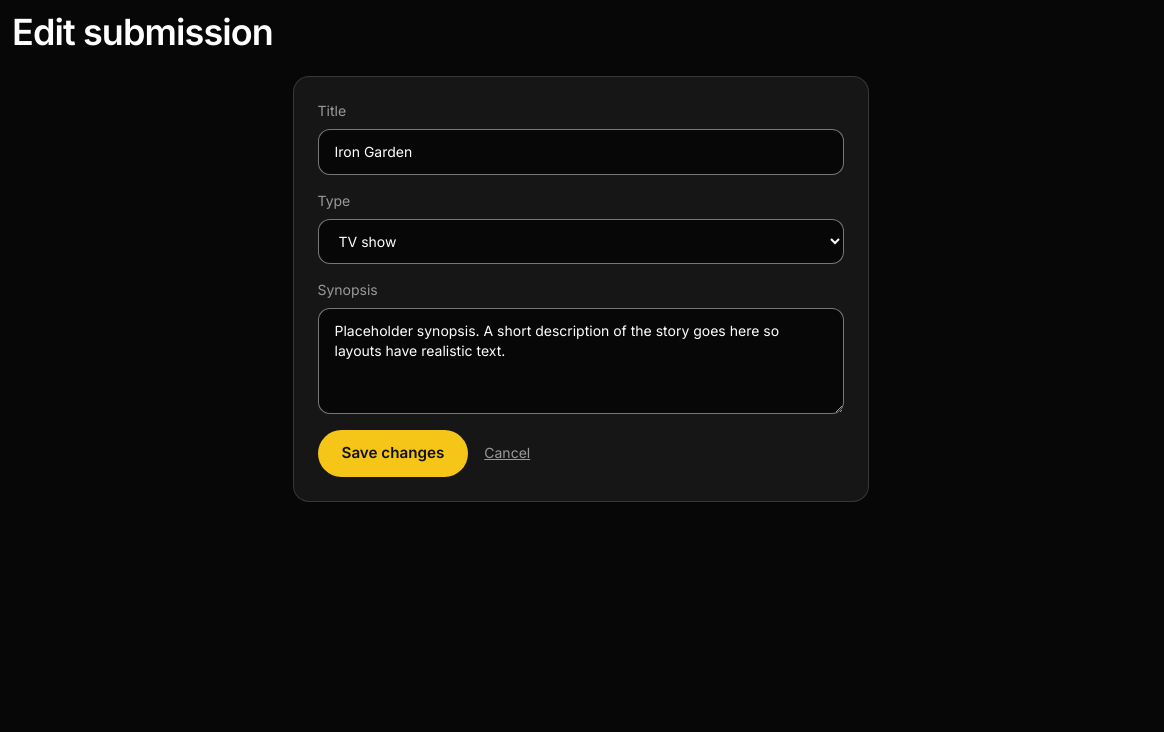
Test: SubmissionForm (edit) › editing a PENDING title saves straight away with no dialog
Type " 2" into the field showing "Iron Garden".
click(580, 152); type(" 2")  # box x1=318 y1=129 x2=844 y2=175
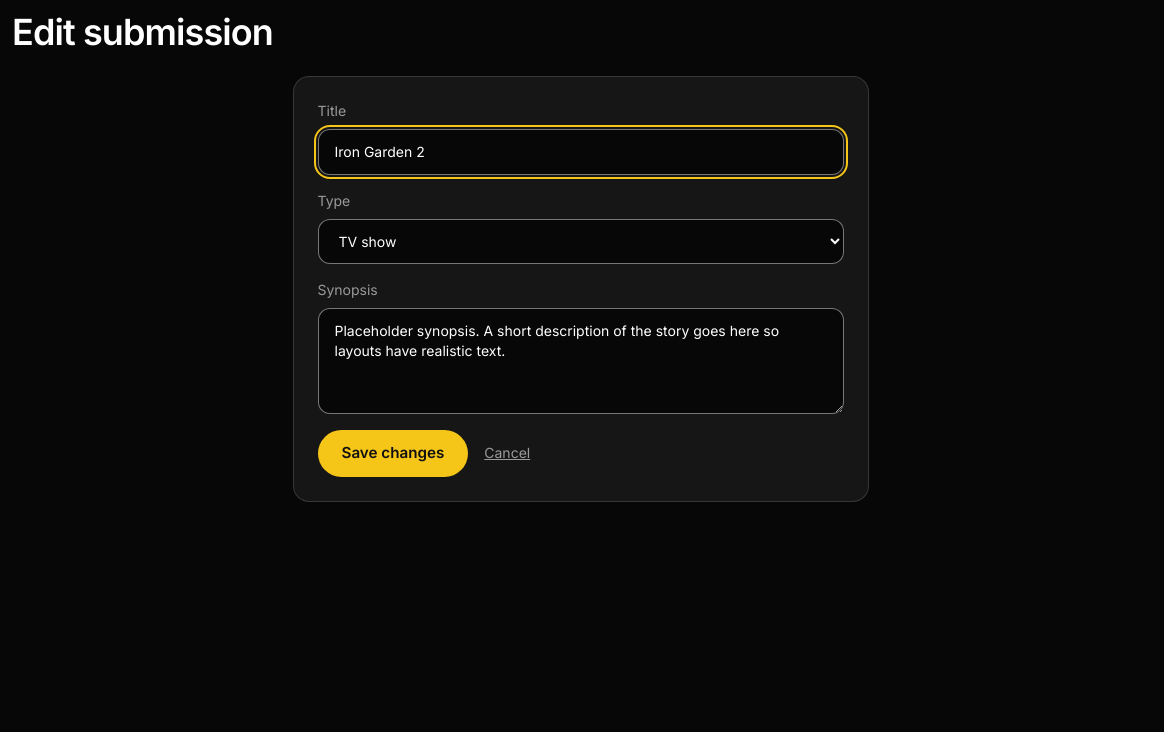
Click the button "Save changes".
click(393, 453)  # box x1=318 y1=430 x2=468 y2=477
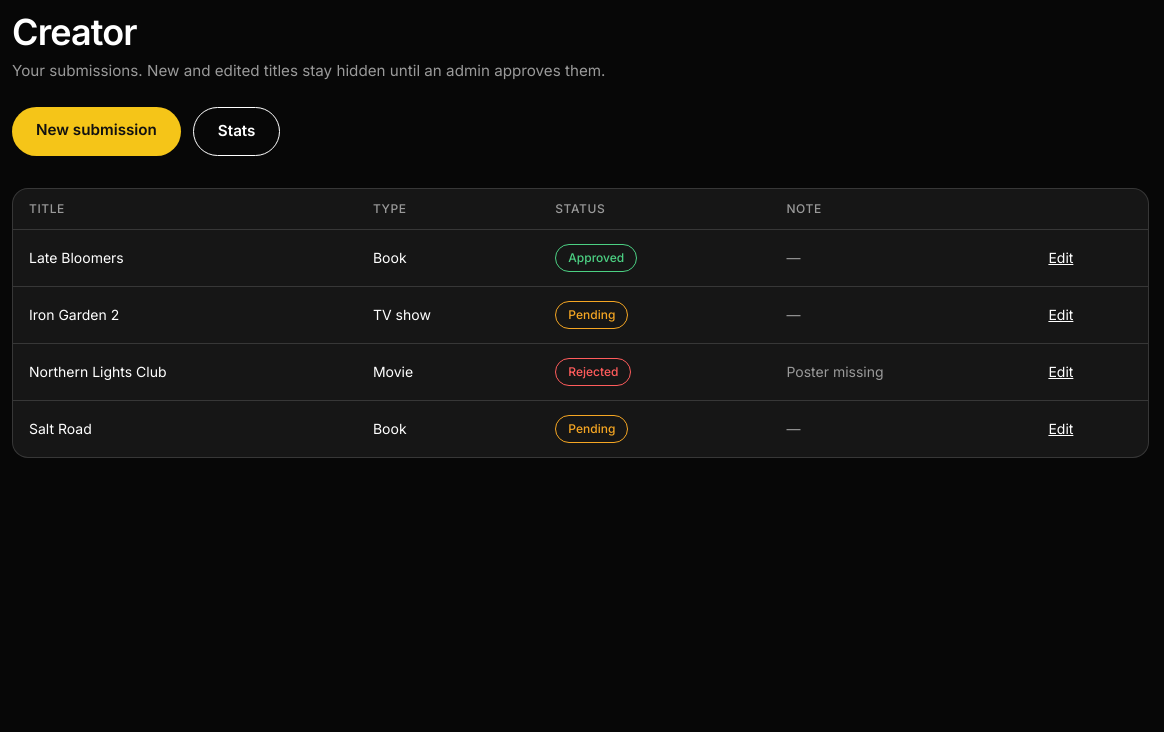
Expected: the row "Iron Garden 2 TV show Pending — Edit" is shown, x1=13 y1=286 x2=1148 y2=343
